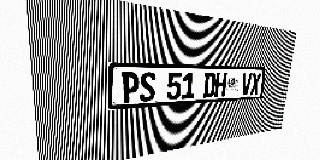1: (181, 72, 196, 99)
5: (167, 72, 182, 100)
D: (202, 73, 216, 98)
H: (214, 73, 227, 97)
P: (121, 72, 139, 103)
S: (139, 72, 156, 102)
V: (241, 73, 252, 95)
X: (250, 73, 261, 95)
